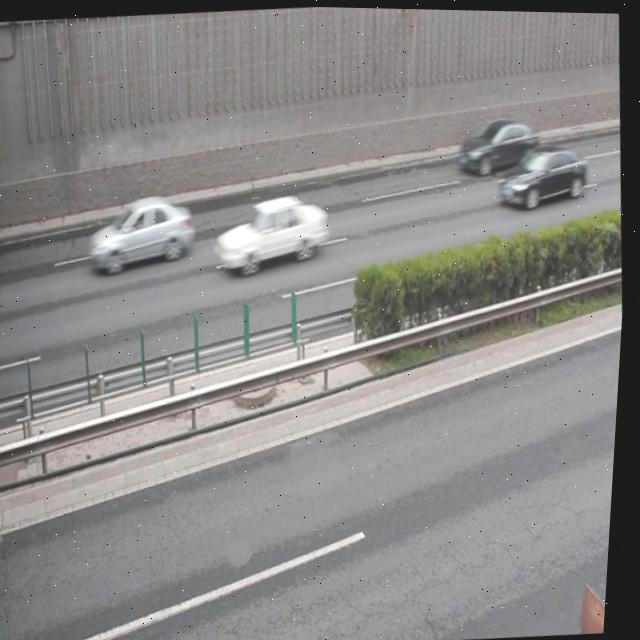car: (214, 189, 333, 273), (88, 192, 198, 270), (498, 139, 589, 208), (456, 112, 541, 174)
